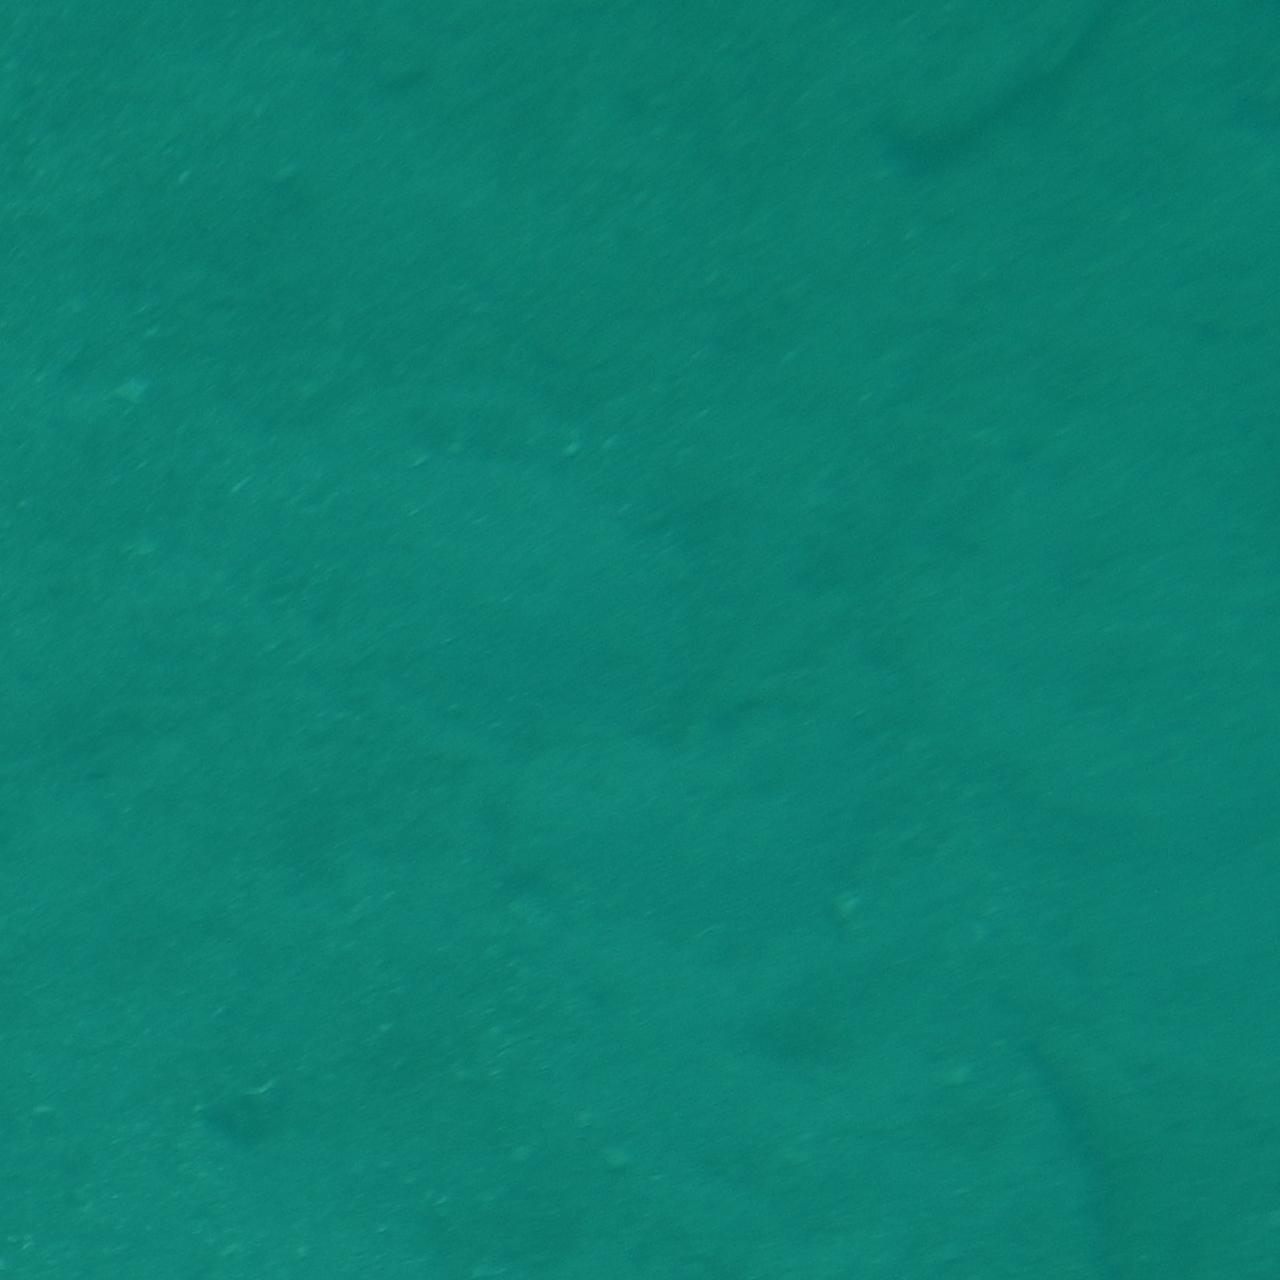Holothuria tubulosa: (864, 0, 1223, 182)
